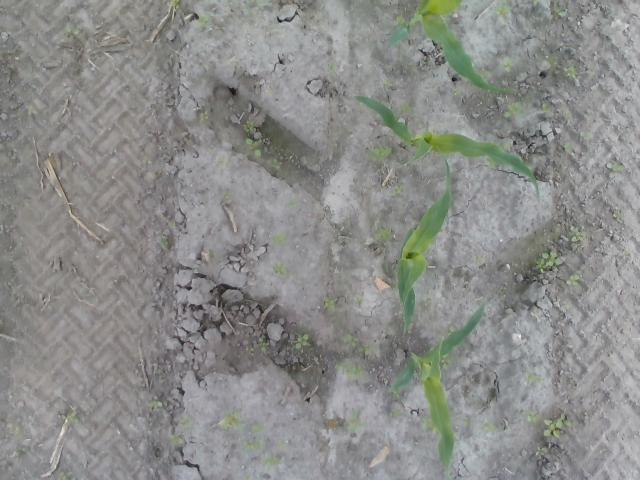Maize: (353, 96, 541, 208), (392, 300, 488, 478), (387, 0, 522, 96), (397, 145, 454, 333)
Weeds: (340, 331, 370, 358), (544, 414, 572, 438), (534, 250, 563, 273), (490, 142, 514, 168), (218, 410, 244, 432), (493, 0, 514, 26), (345, 410, 366, 436), (246, 336, 270, 356), (334, 363, 364, 378), (58, 404, 78, 426), (246, 138, 264, 160), (419, 415, 438, 434), (258, 457, 288, 469), (502, 102, 524, 118), (374, 227, 394, 244), (370, 147, 392, 161), (64, 20, 83, 36), (242, 438, 264, 451), (270, 232, 290, 246), (606, 161, 626, 174), (294, 334, 310, 350), (148, 396, 162, 414), (167, 434, 184, 448), (215, 152, 228, 170), (501, 57, 516, 72), (272, 263, 288, 277), (526, 371, 542, 385), (177, 414, 193, 428), (551, 6, 567, 20), (196, 12, 210, 27), (242, 121, 256, 135), (322, 297, 336, 311), (522, 410, 536, 423), (612, 210, 624, 225), (563, 66, 578, 78), (272, 156, 284, 171), (8, 449, 28, 458), (568, 229, 582, 241), (566, 276, 580, 287), (250, 425, 266, 434), (474, 252, 486, 264), (392, 185, 404, 197), (167, 0, 181, 10), (563, 142, 574, 154), (353, 296, 366, 306), (578, 132, 592, 141), (27, 105, 38, 116), (140, 155, 151, 166), (326, 62, 338, 72), (483, 420, 494, 430), (199, 110, 210, 120), (287, 199, 298, 208), (221, 190, 230, 201), (400, 103, 412, 111), (536, 446, 546, 455)
